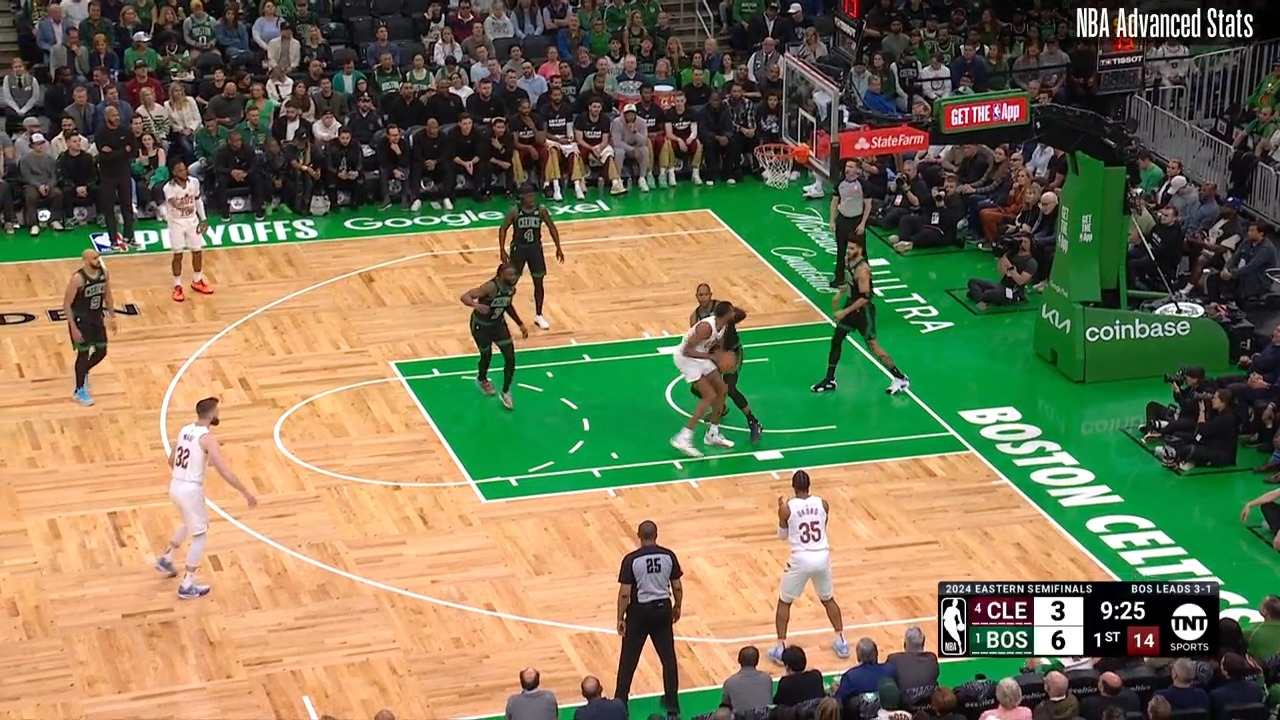basketball: (712, 348, 738, 376)
